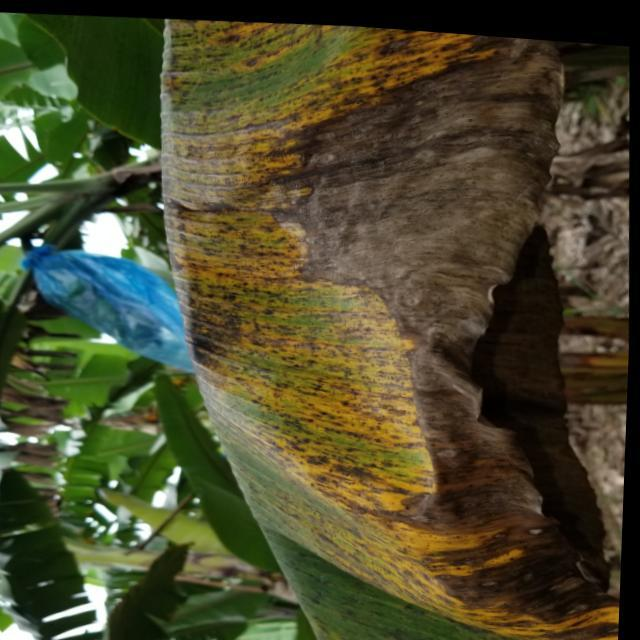Early_rust: (130, 5, 640, 640)
